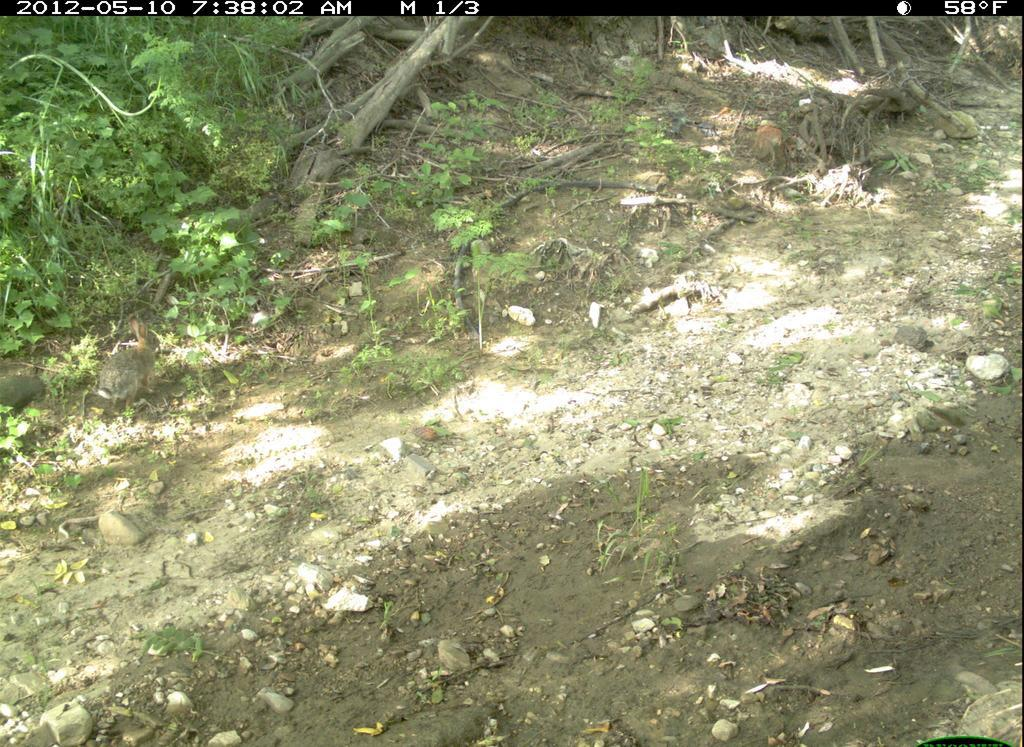rabbit: (91, 308, 169, 414)
